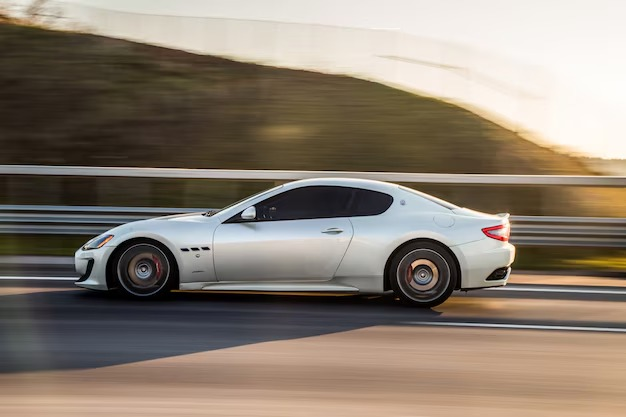car: (81, 175, 509, 307)
